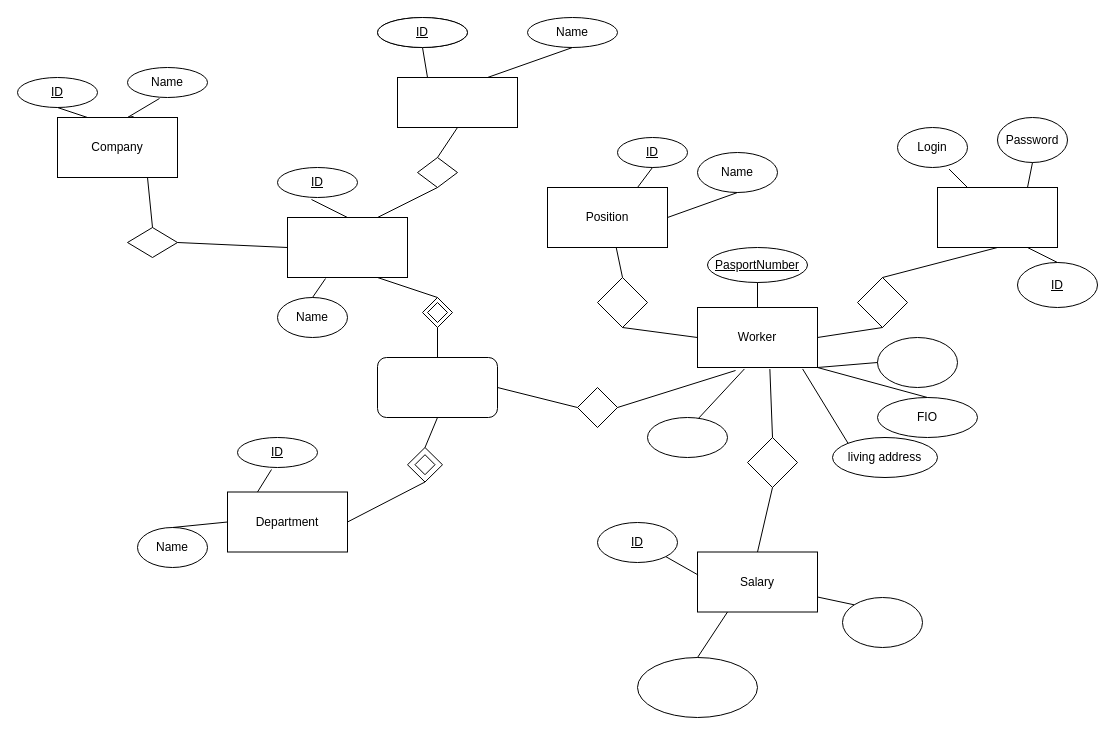
Image size: 1115x735. Some labels were removed from this diagram. Each missing label, with the box of its shape:
Account: (936, 186, 1058, 248)
Branch: (286, 216, 408, 278)
BranchDepartment: (376, 356, 498, 418)
Country: (396, 76, 518, 128)
Money amount: (636, 656, 758, 718)
registration adress: (876, 336, 958, 388)
Sex: (646, 416, 728, 458)
Type: (842, 596, 922, 648)
